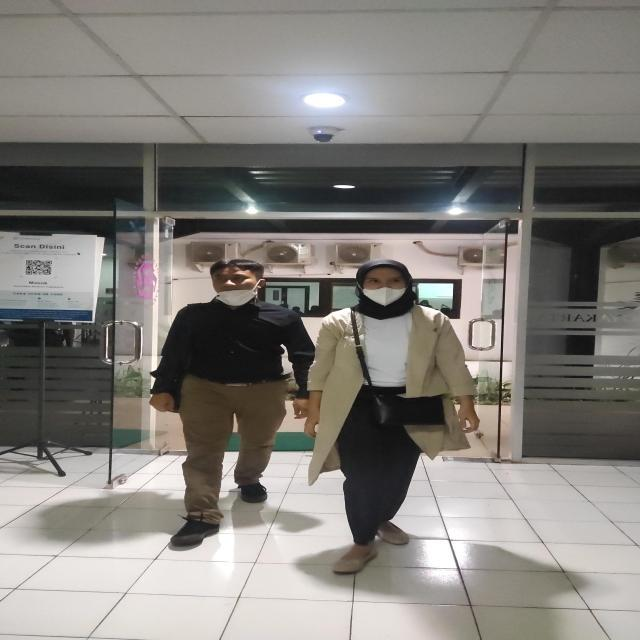hairnet: (350, 256, 418, 308), (206, 254, 263, 306)
